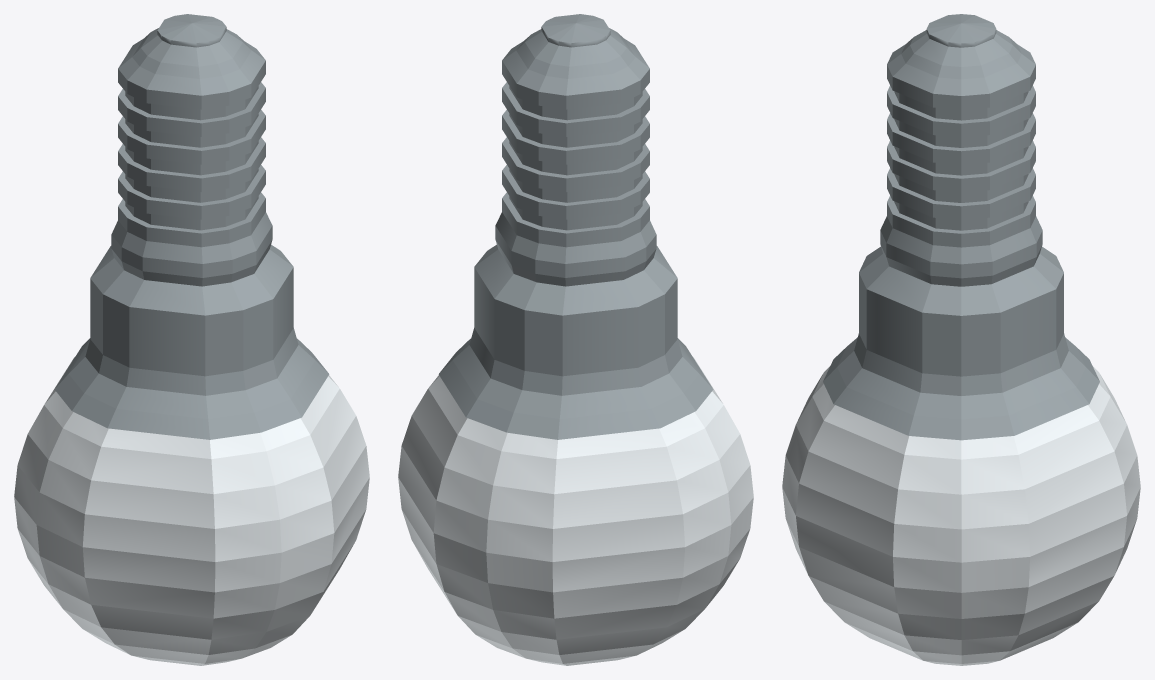
The model's file is lamp.fbx.
The picture shows the model from 3 angles, left to right: view 1: azimuth 30°, elevation 25°; view 2: azimuth 150°, elevation 25°; view 3: azimuth 270°, elevation 25°; orthographic projection.
Parts seen in each view (by area): view 1: Lamp; view 2: Lamp; view 3: Lamp.
Part boxes in pixels (box(x1,y1,x2,y2)): Lamp: box(14, 14, 369, 665); Lamp: box(398, 14, 753, 665); Lamp: box(782, 14, 1140, 665).
Size of the model in its own units: 10.36 by 19.97 by 10.36.
Materials: 2 (2 with a texture image).
